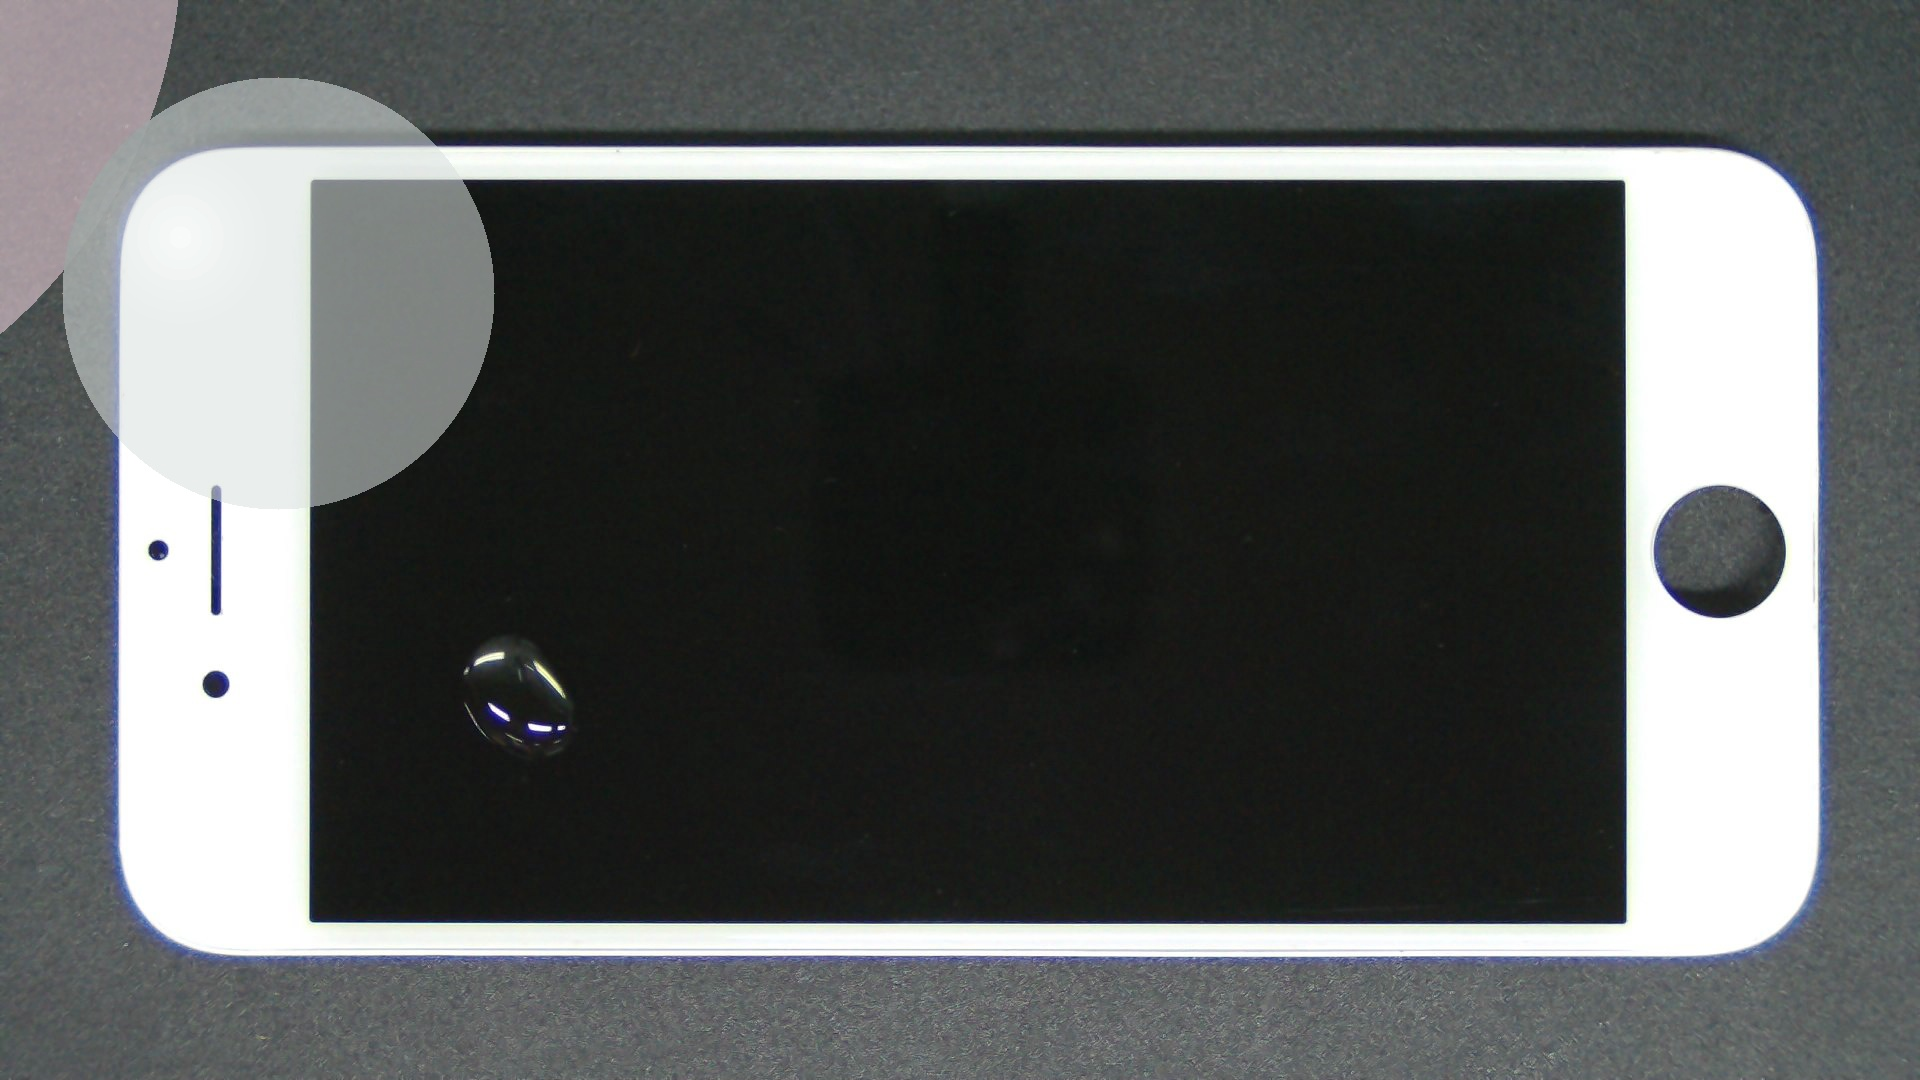oil: (251, 318, 752, 955)
